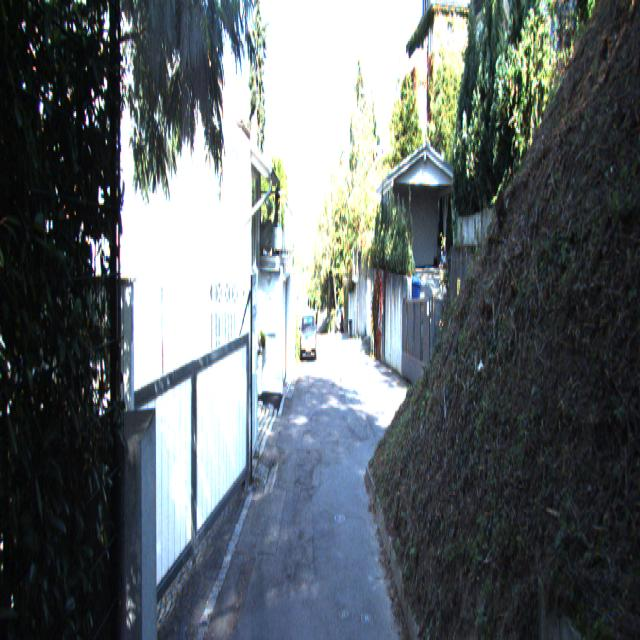Car: (300, 313, 316, 363)
DontCare: (335, 306, 343, 332)
